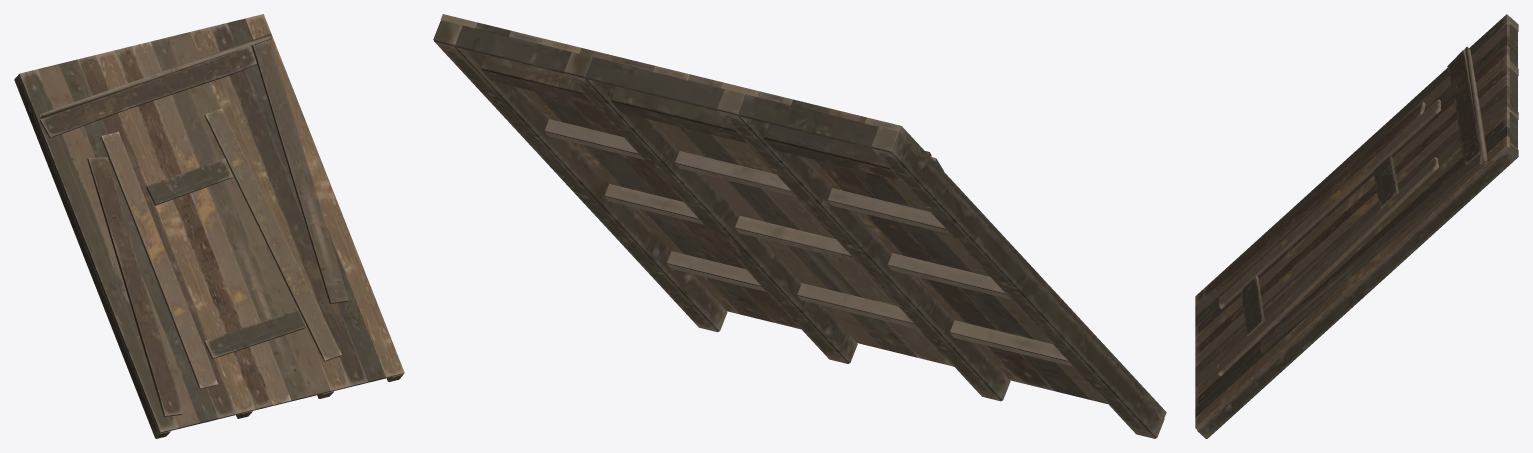
The model's file is roof.frontier.full_a.glb.
3 renders of one model, left to right at view 1: azimuth 30°, elevation 25°; view 2: azimuth 150°, elevation 25°; view 3: azimuth 270°, elevation 25°, orthographic. The views are drawn at different scales.
Parts seen in each view (by area): view 1: roof_a_LOD0; view 2: roof_a_LOD0; view 3: roof_a_LOD0.
Part boxes in pixels (<box>): roof_a_LOD0: <box>14,14,404,438</box>; roof_a_LOD0: <box>433,14,1166,438</box>; roof_a_LOD0: <box>1195,14,1518,438</box>.
Bounding box in the file's own units: 3 × 3.12 × 3.12.
Materials: 1 (1 with a texture image).
